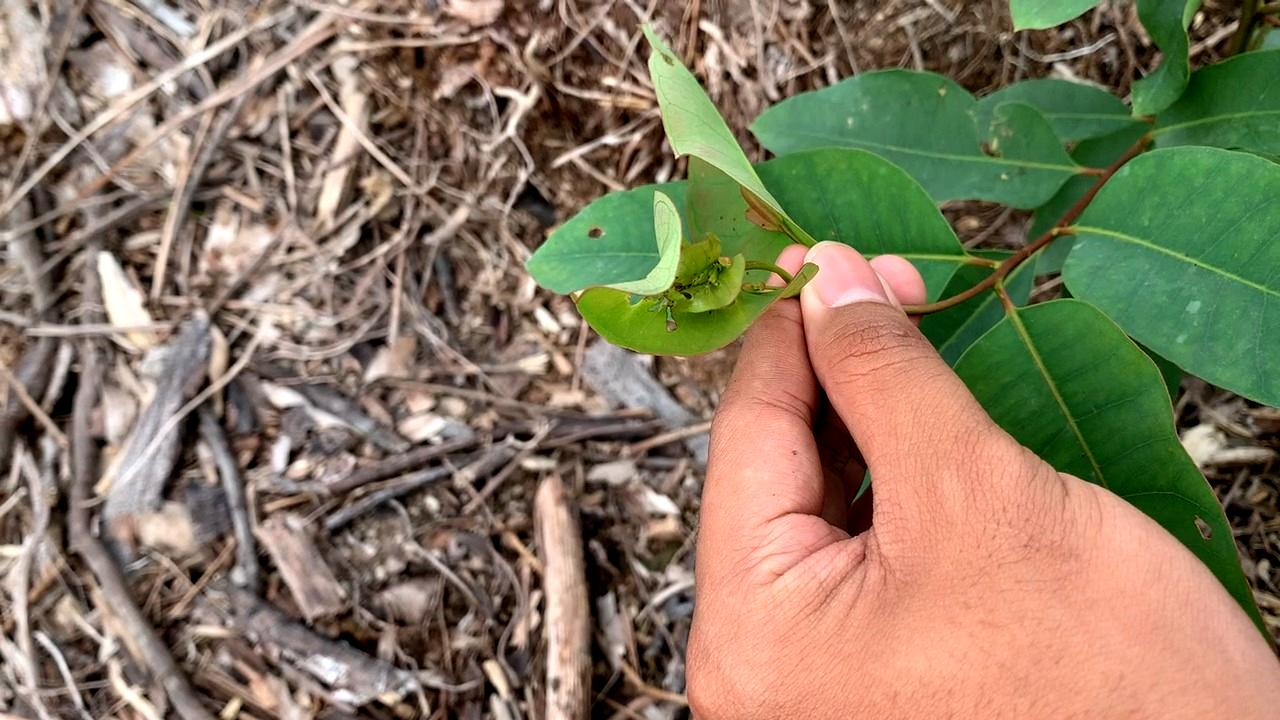Leaf Roller - Leaf: (555, 189, 830, 364)
